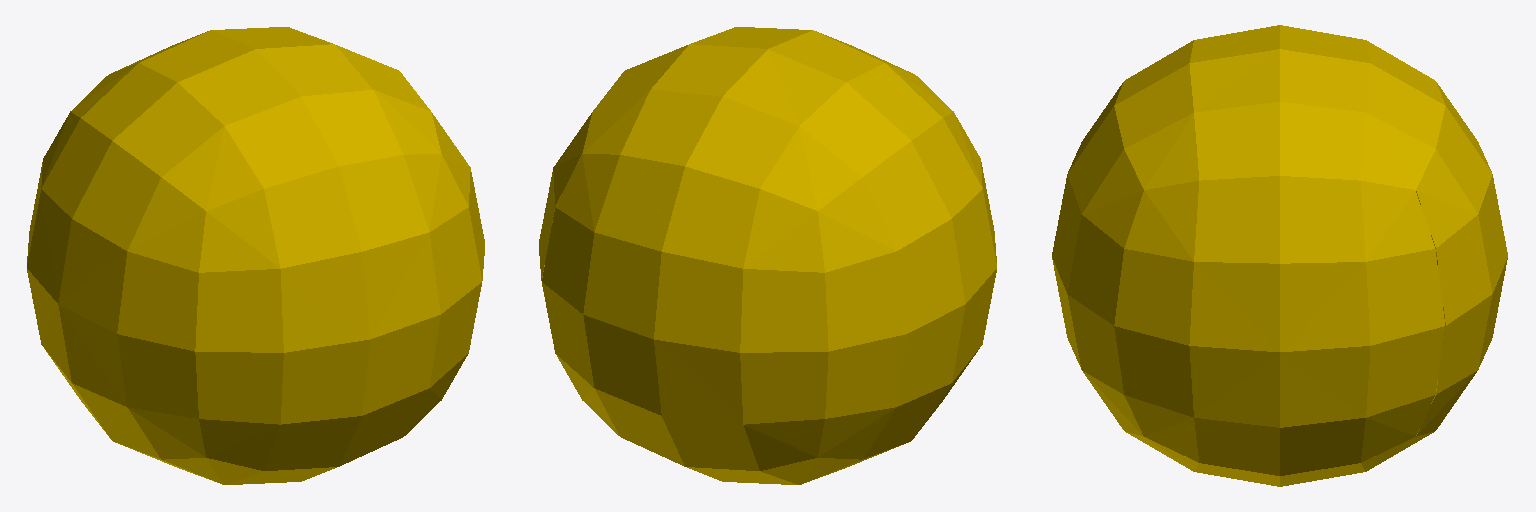
3 views of the same model, side by side, from view 1: azimuth 30°, elevation 25°; view 2: azimuth 150°, elevation 25°; view 3: azimuth 270°, elevation 25° (orthographic).
Visible parts, largest first — view 1: Cube; view 2: Cube; view 3: Cube.
Part boxes in pixels (bbox=[...]): Cube: bbox=[27, 27, 484, 484]; Cube: bbox=[539, 27, 996, 484]; Cube: bbox=[1052, 25, 1507, 486].
Bounding box in the file's own units: 4.24 × 4.24 × 4.24.
Materials: 1 (1 with a texture image).